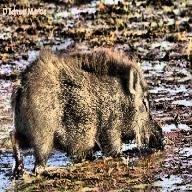boar: (13, 33, 173, 185)
